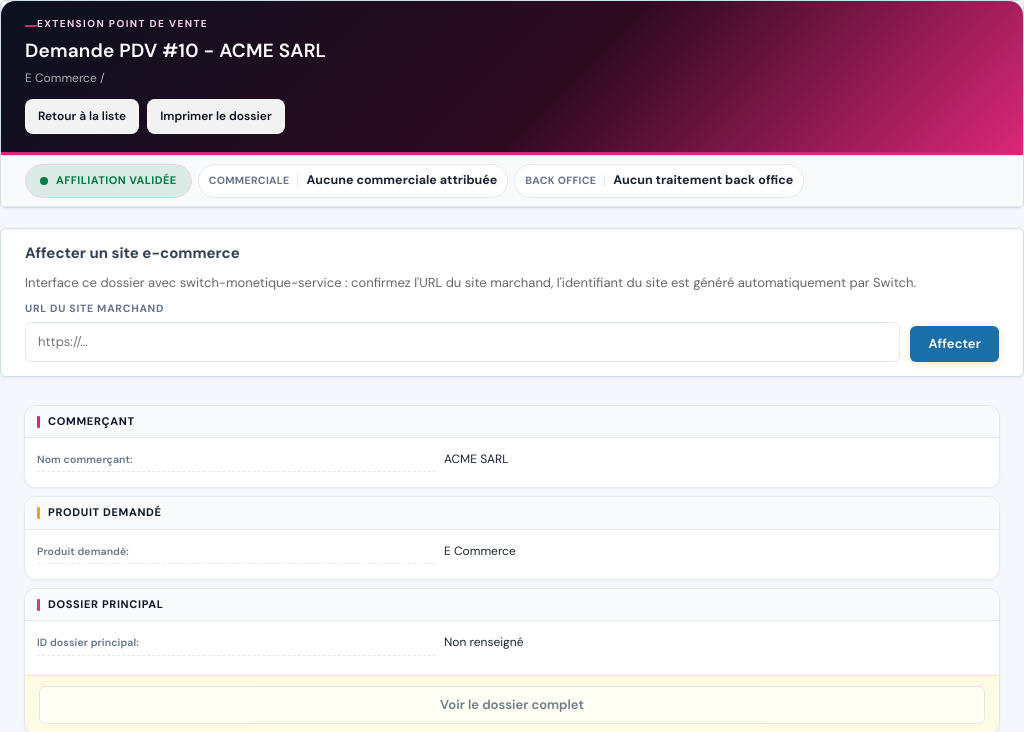
Test: CommercialDossierDetailPage › un back office peut affecter un site e-commerce a une demande d'extension E_COMMERCE (NOUVEAU_PDV)
In the field with placeholder "https://...": point(463, 342) [25,322,900,362], type "https://nouvelle-boutique.example.ma"
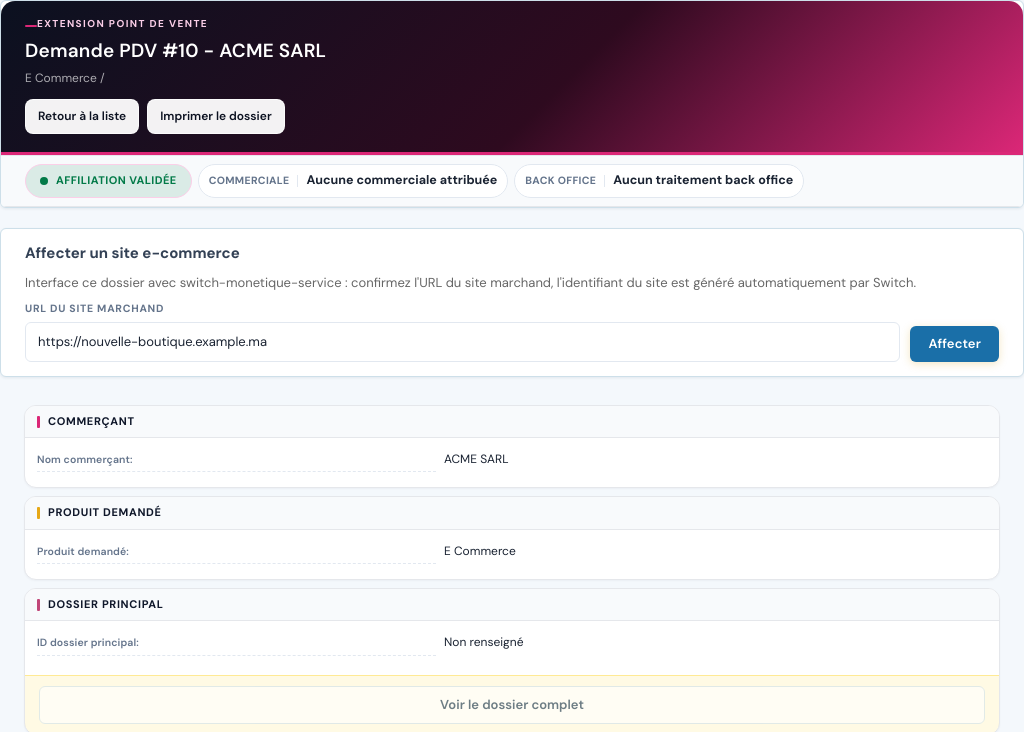
Click the button "Affecter": point(955, 344) [910,326,999,362]
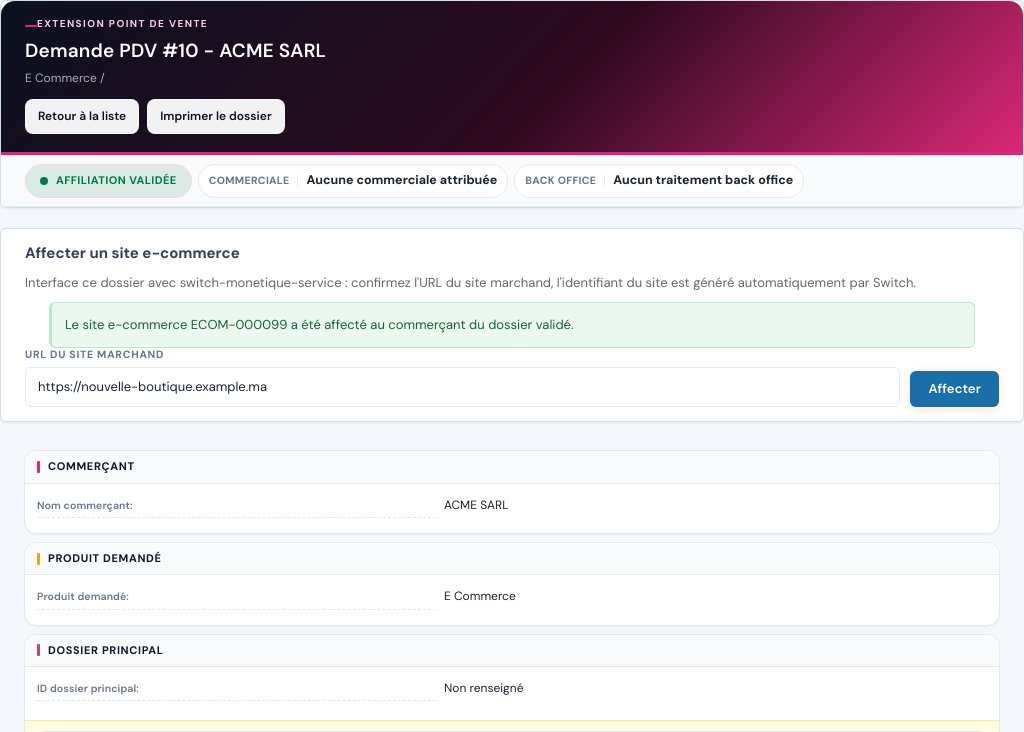
Check: the text "Le site e-commerce ECOM-000099 a été affecté au commerçant du dossier validé." is shown, box [49,302,975,348]
